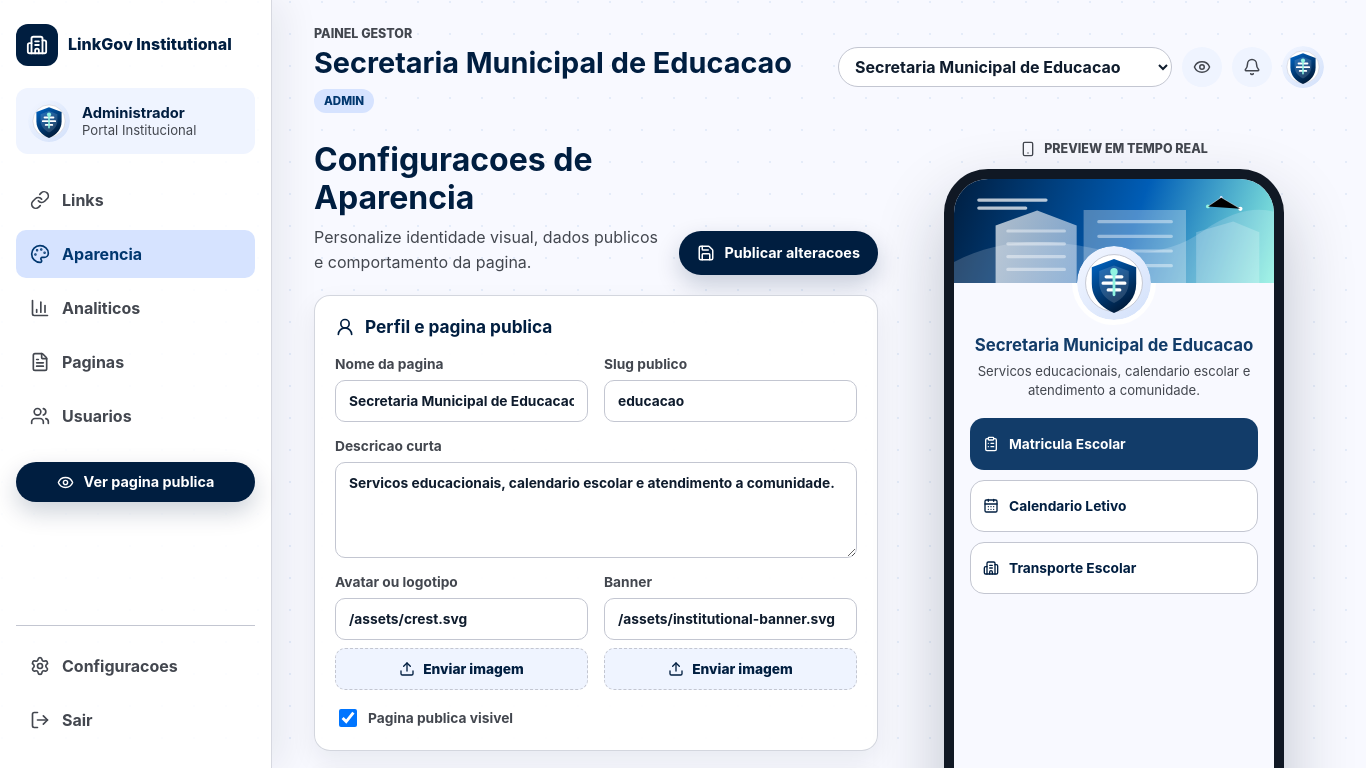
Scenario: App critical flows › saves appearance changes on the selected non-default page in local fallback
Replace the text in the field labelled "Nome da pagina" with "Portal Municipal de Educacao". click: (462, 400)
box: [335,380,588,422]
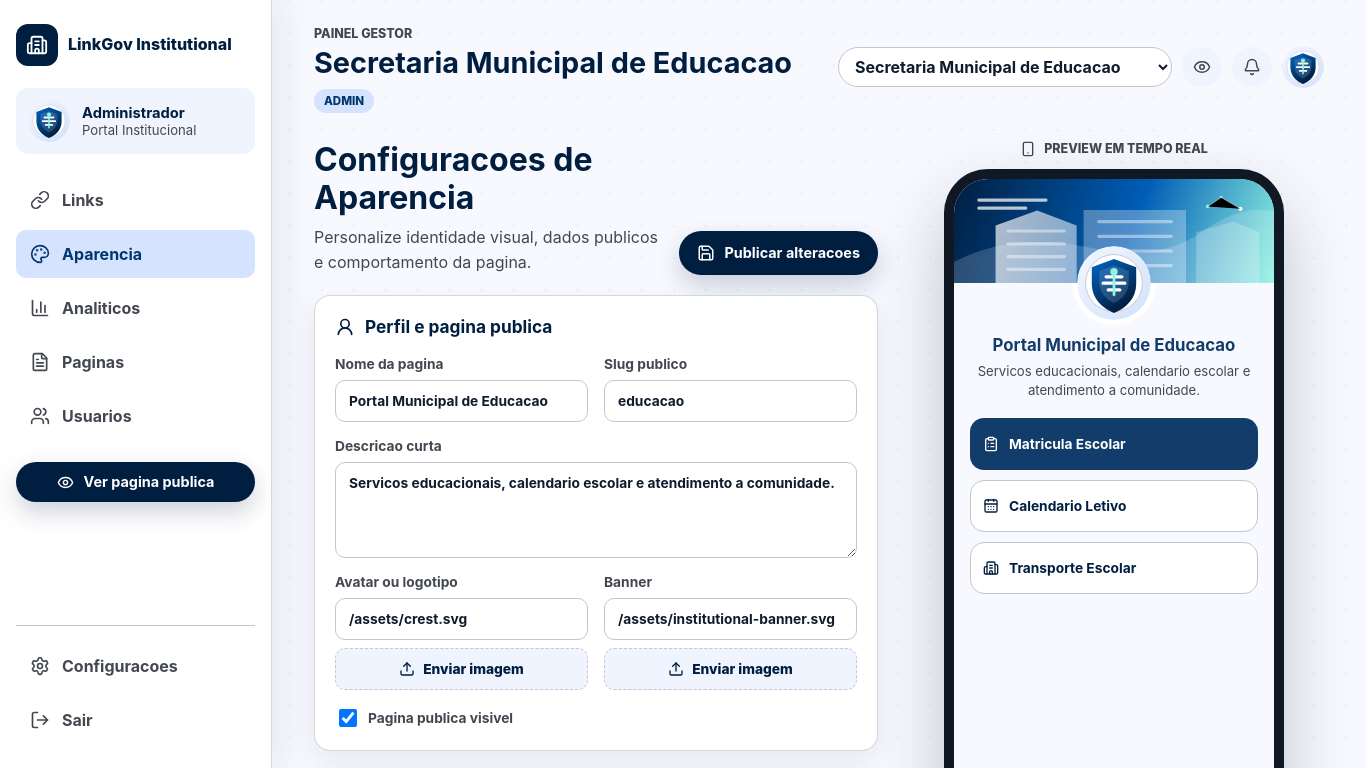
Click the button "Publicar alteracoes". click: click(778, 253)
box: [678,231,878,275]
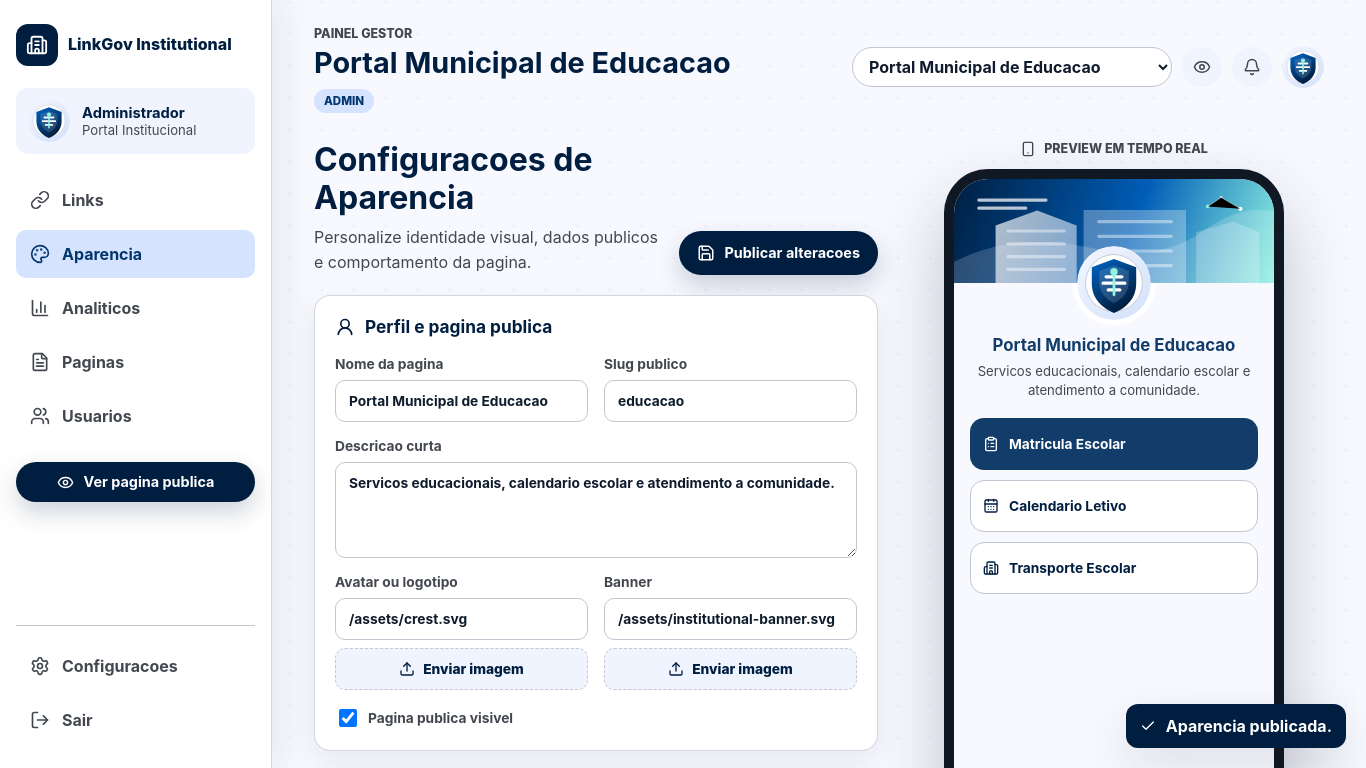
Check: the heading "Portal Municipal de Educacao" below "Painel Gestor" is shown, box [314,45,731,80]
